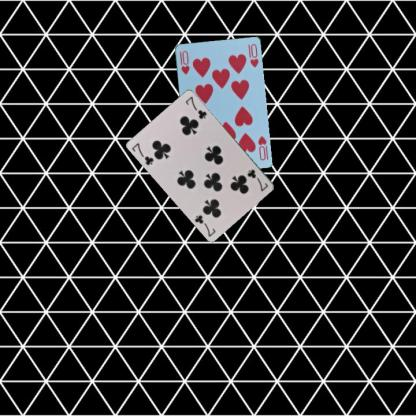10h: (176, 48, 190, 76), (255, 133, 267, 161)
7c: (129, 140, 155, 166), (245, 166, 270, 192)
